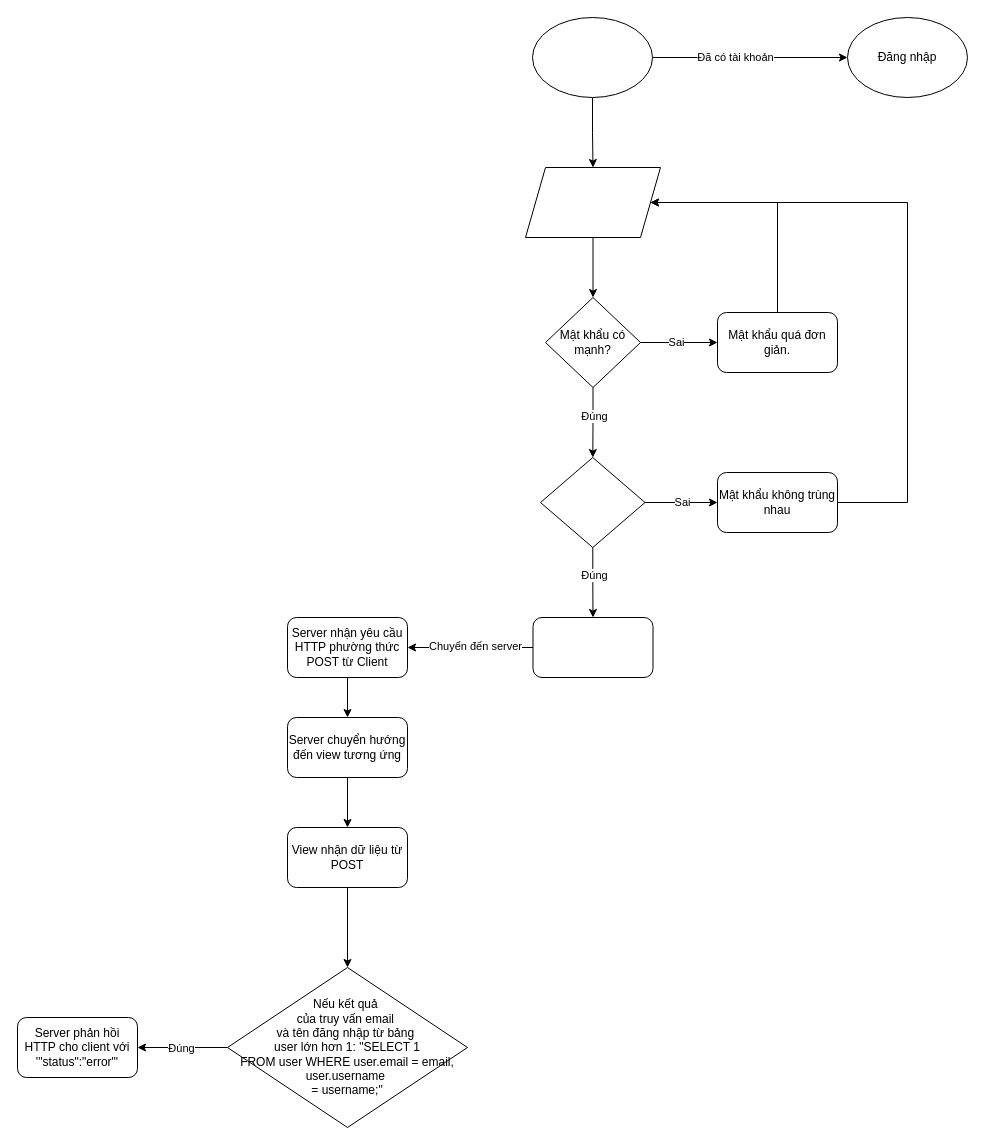
Image size: 985x1145. Some labels were removed from this diagram. The box of each missing label's shape, as (x1, y1, x2, y2) in pixels:
Axios gửi yêu cầu HTTP đến server bằng phương thức POST: (532, 616, 653, 678)
Mật khẩu nhập lại có trùng?: (540, 456, 645, 548)
Nhập email, tên đăng nhập, mật khẩu và nhập lại mật khẩu: (524, 166, 660, 238)
Đăng ký: (532, 16, 652, 98)
